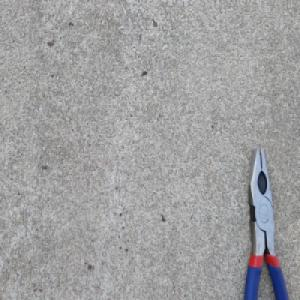Pliers: (241, 146, 288, 300)
